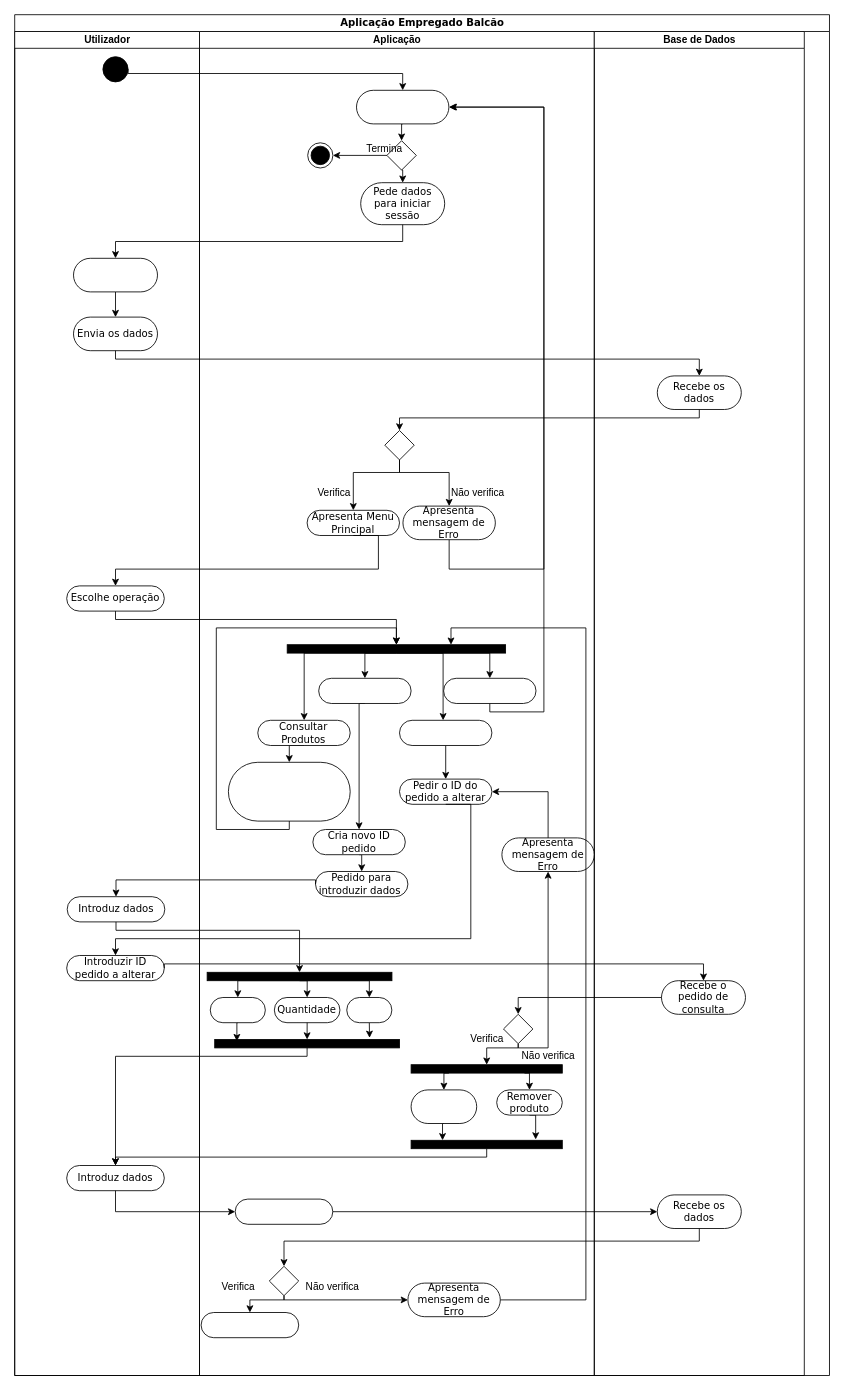
Some shapes in this 844 by 1390 pixel diagram are drawn without their labels. Here are the shapes that lost their labels. From the top down, the centre of each, then its label:
At point 402,106: "Apresenta página de Login".
At point 115,274: "Introduz userID e password".
At point 364,690: "Realizar novo pedido".
At point 489,690: "Logout".
At point 445,732: "Alterar pedido".
At point 289,791: "Apresenta produtos existentes no Bar e respetivas quantidade e preço".
At point 237,1010: "ID Produto".
At point 369,1010: "Nome".
At point 443,1106: "Alterar quantidade de produto".
At point 283,1211: "Verifica na base de dados".
At point 249,1325: "Introduz os dados na base de dados".
